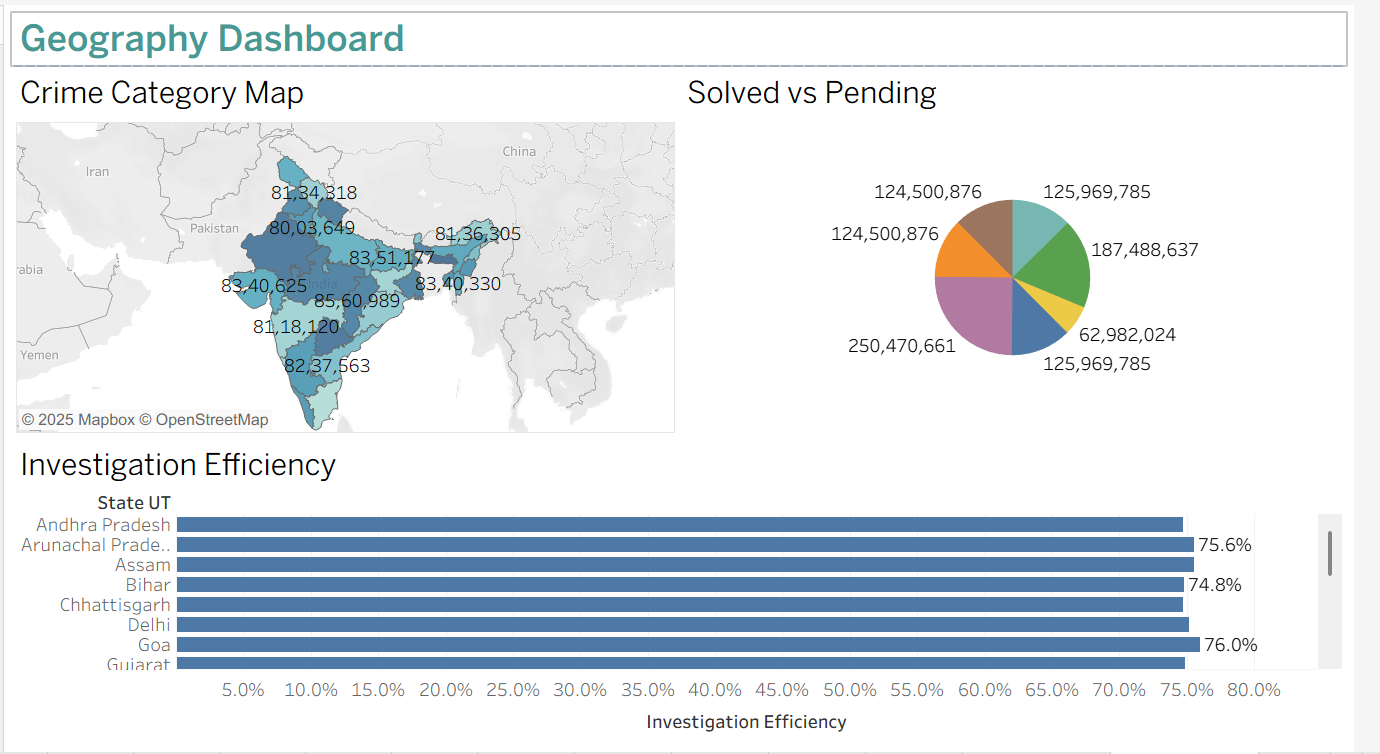

This screenshot's page, from the dashboard's own definition file:
{"tool":"tableau","page":{"name":"Dashboard 2","canvas":[1000,1000],"units":"permille","ordinal":1},"visuals":[{"type":"title","box":[5.9,10.7,988.1,69.6]},{"type":"worksheet","title":"Sheet 5","mark":"Automatic","box":[5.9,80.3,494,498.1]},{"type":"worksheet","title":"Sheet 8","mark":"Pie","box":[499.9,80.3,494.2,498.1]},{"type":"worksheet","title":"Sheet 13","mark":"Bar","rows":["State_UT"],"cols":["Calculation_1197676061992914946"],"box":[5.9,578.5,988.1,410.8]}]}

Visuals, with their boxes on the dashboard's canvas, which has no fixed pixel size, in thousandths of its width and height (x1, y1, x2, y2). These are canvas units, not pixel positions in the 1380x754 screenshot, which may show the page scaled, cropped or inside an application window:
title: detection(6, 11, 994, 80)
"Sheet 5" worksheet: detection(6, 80, 500, 578)
"Sheet 8" worksheet (Pie marks): detection(500, 80, 994, 578)
"Sheet 13" worksheet (Bar marks): detection(6, 578, 994, 989)
